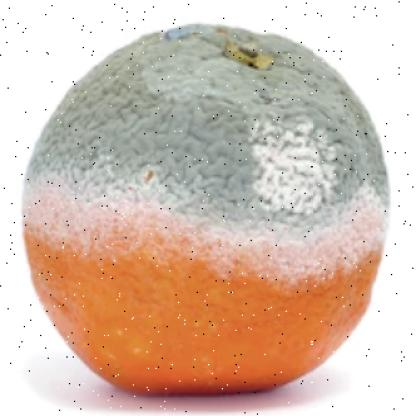rotten: (23, 24, 390, 392)
